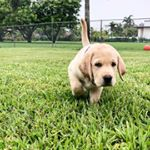puppy: (66, 13, 131, 107)
